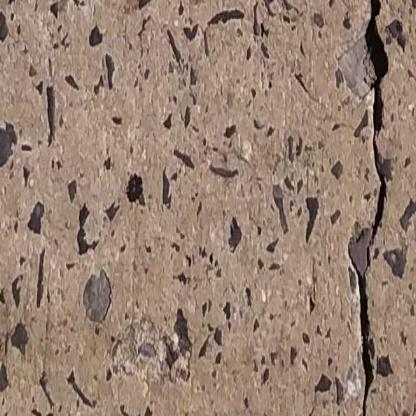Cracks: (344, 0, 395, 416)
